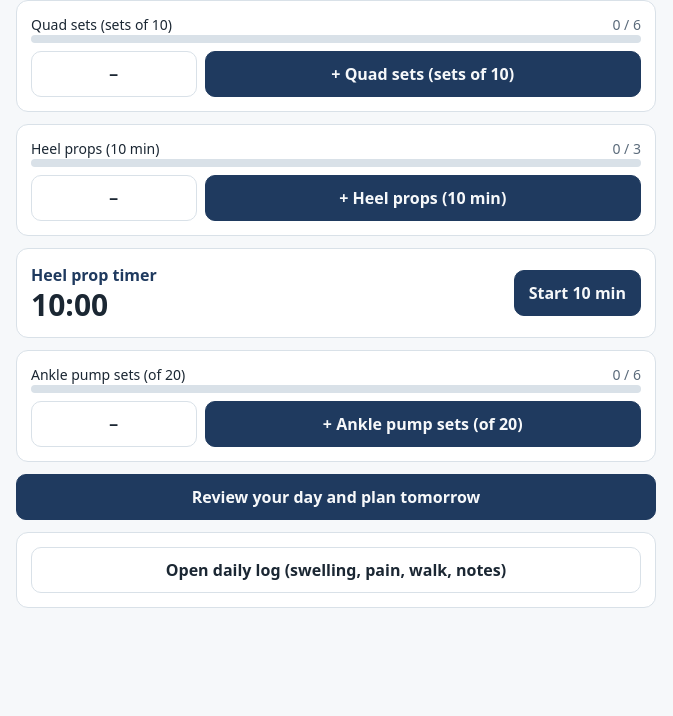
Safety on Today › calf warning in log shows stop banner
(page scrolled)
Click the button "Open daily log (swelling, pain, walk, notes)".
click(336, 570)  # box [31,546,641,592]
(page scrolled)
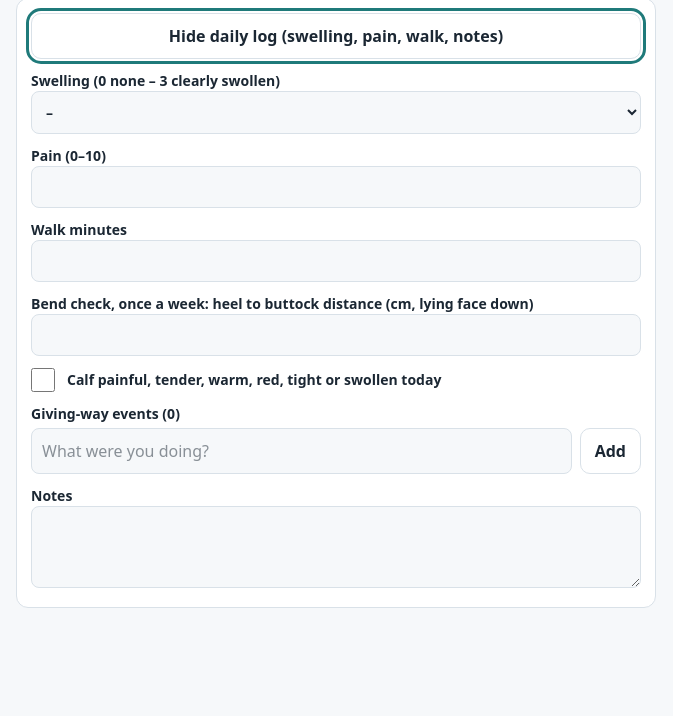
Click the checkbox labelled "Calf painful, tender, warm, red, tight or swollen today".
click(43, 380)  # box [31,368,55,392]
(page scrolled)
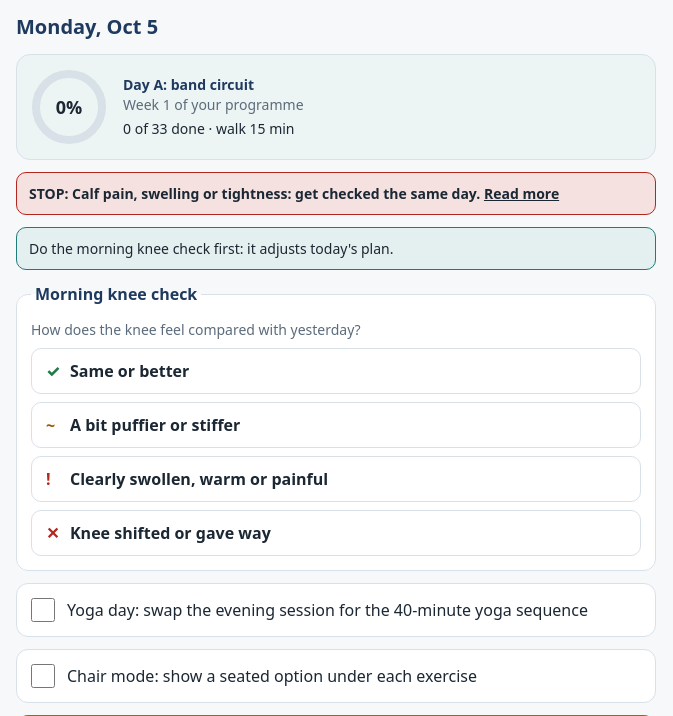
Now the text "STOP: Calf pain, swelling or tightness: get checked the same day. Read more" is shown, box [16,172,656,215]
